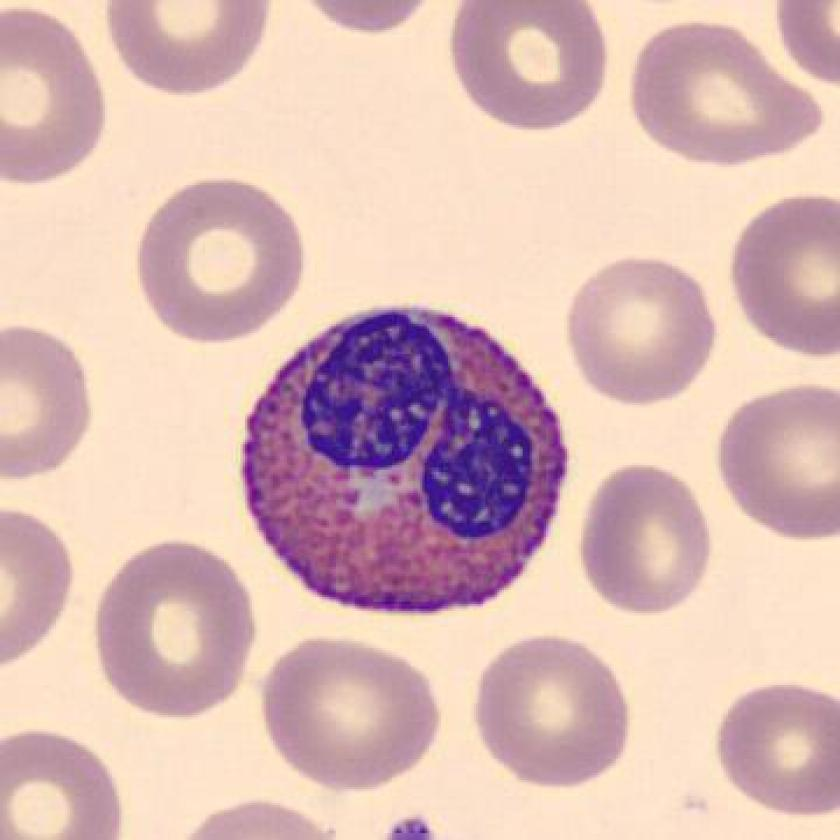eosinophil: (223, 293, 584, 624)
